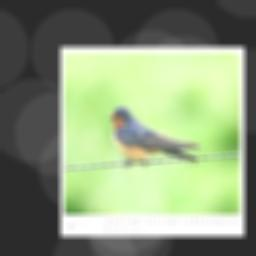Swallow: (108, 106, 199, 162)
